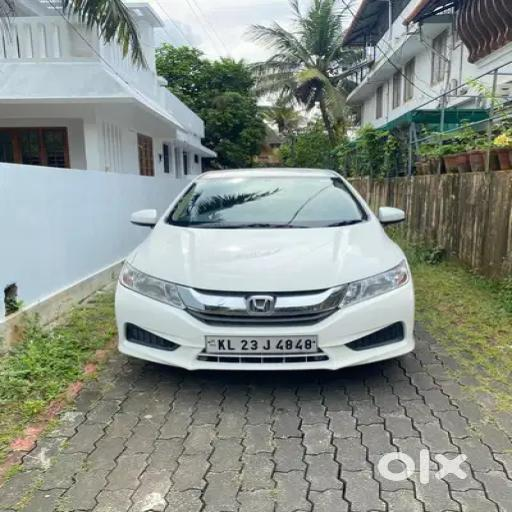License: (198, 334, 327, 357)
